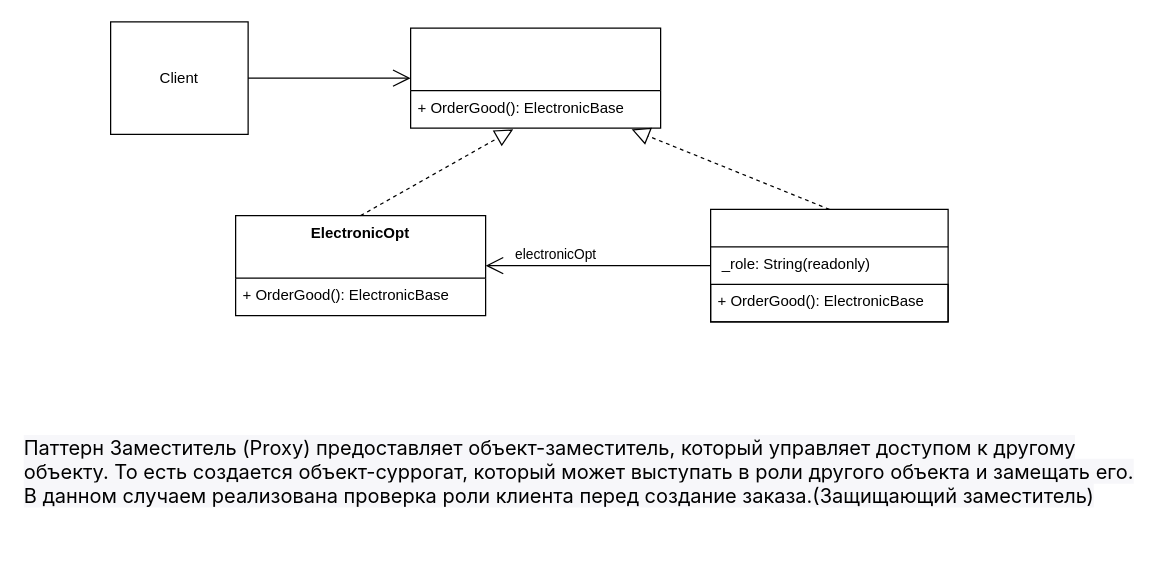
Some shapes in this 1155 by 575 pixel diagram are drawn without their labels. Here are the shapes that lost their labels. From the top down, the box of each, then its label:
(409, 27, 661, 128): <interface> IElectronicOpt
(709, 208, 948, 322): ELectronicOptProxy
